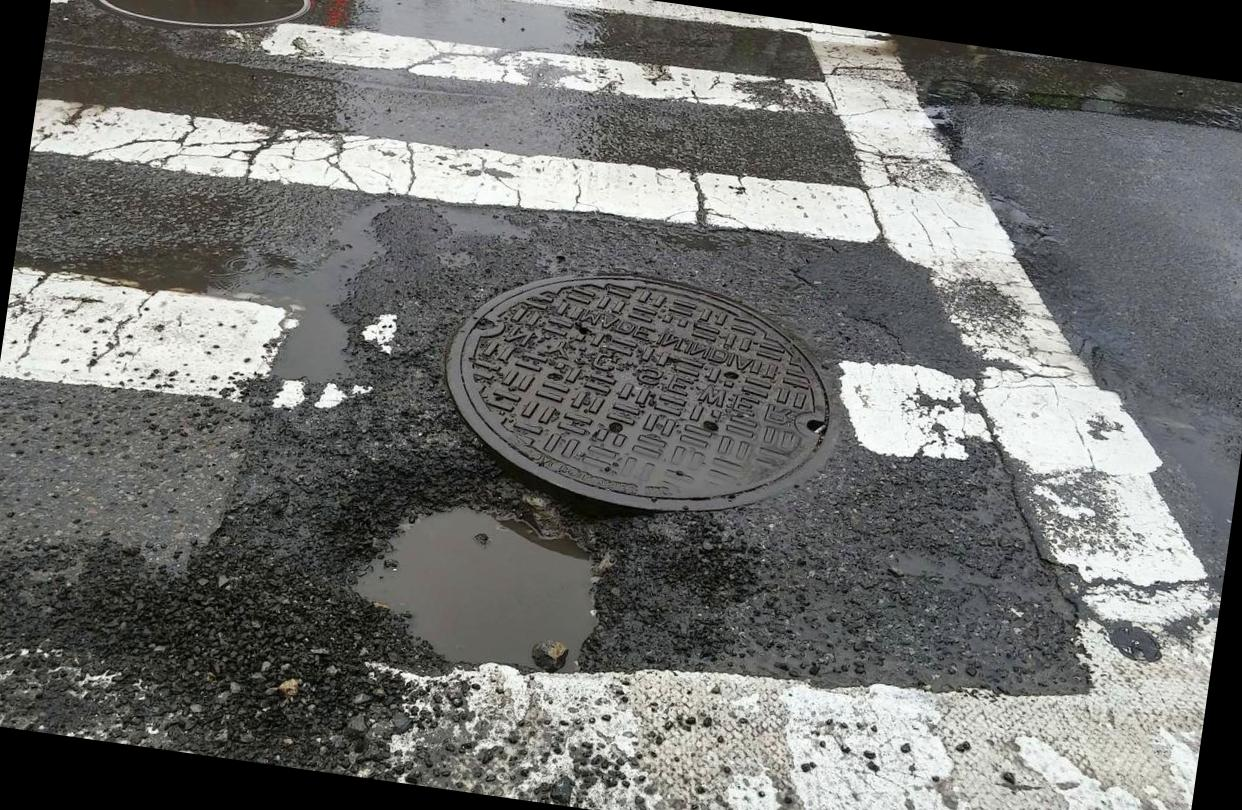pothole: (268, 404, 711, 735)
